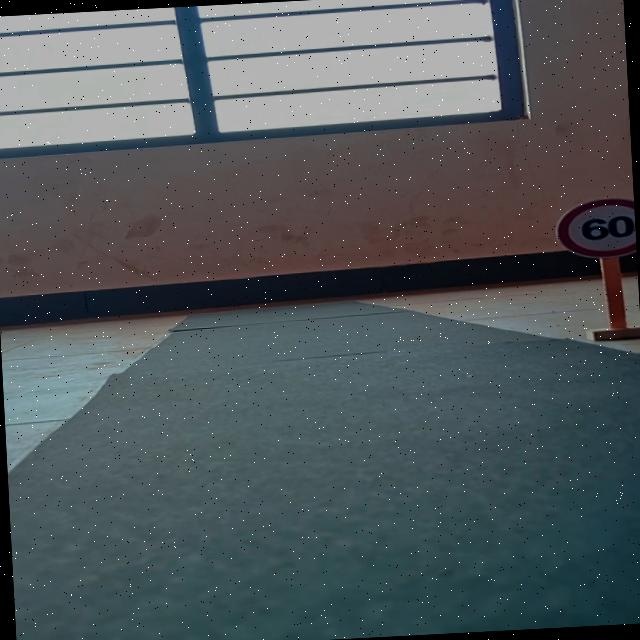Speed60: (550, 197, 637, 257)
